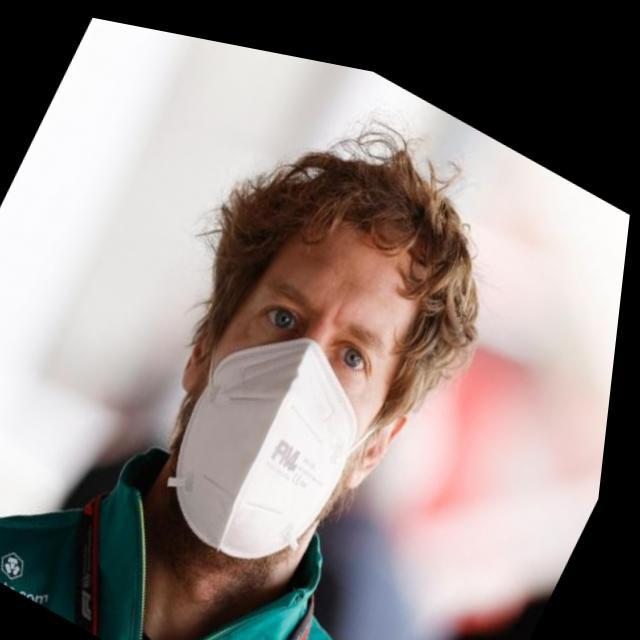Nonhelmet: (159, 121, 483, 561)
